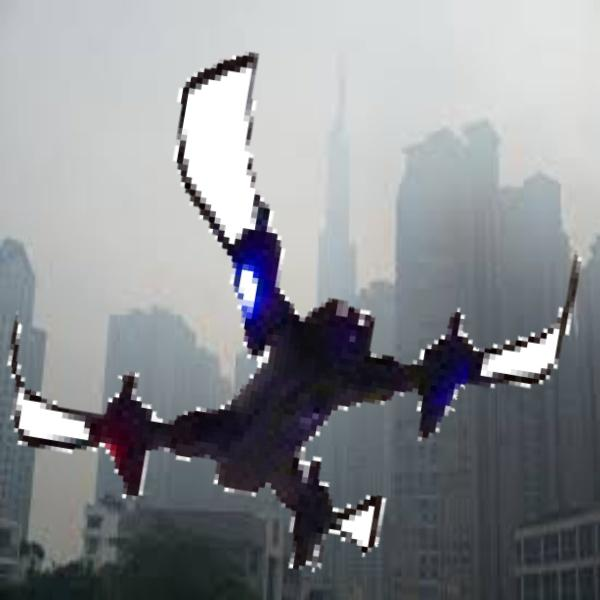drone: (10, 5, 598, 593)
